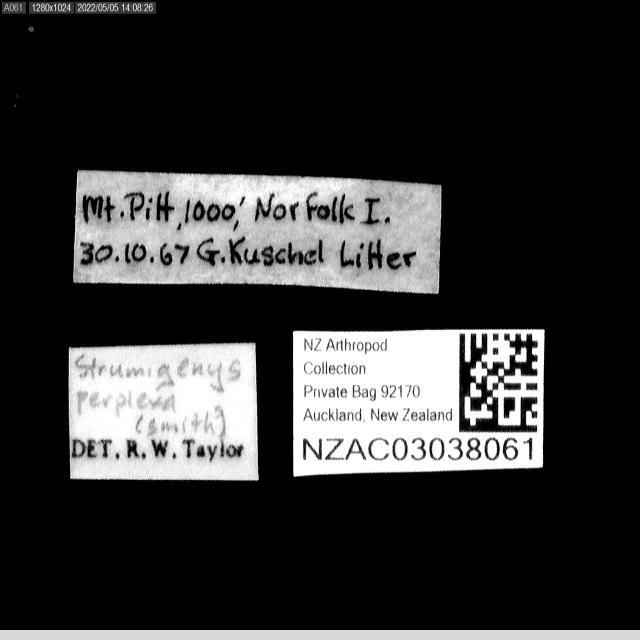hand_label: (74, 170, 441, 294)
mixed_label: (69, 344, 259, 480)
typed_label: (294, 330, 545, 477)
